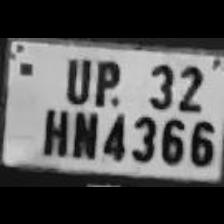2: (172, 58, 206, 111)
3: (126, 108, 156, 162), (142, 58, 174, 108)
4: (98, 106, 126, 160)
6: (186, 114, 216, 168), (156, 112, 184, 164)
H: (35, 102, 69, 156)
N: (68, 106, 98, 158)
P: (88, 54, 124, 104)
U: (58, 50, 92, 104)
